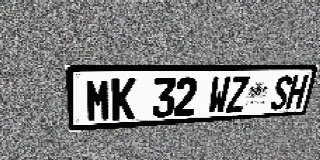2: (173, 77, 198, 117)
3: (152, 77, 176, 118)
H: (285, 75, 309, 109)
K: (112, 78, 136, 121)
M: (85, 78, 111, 122)
S: (269, 76, 293, 110)
W: (207, 76, 231, 114)
Z: (226, 76, 250, 113)
